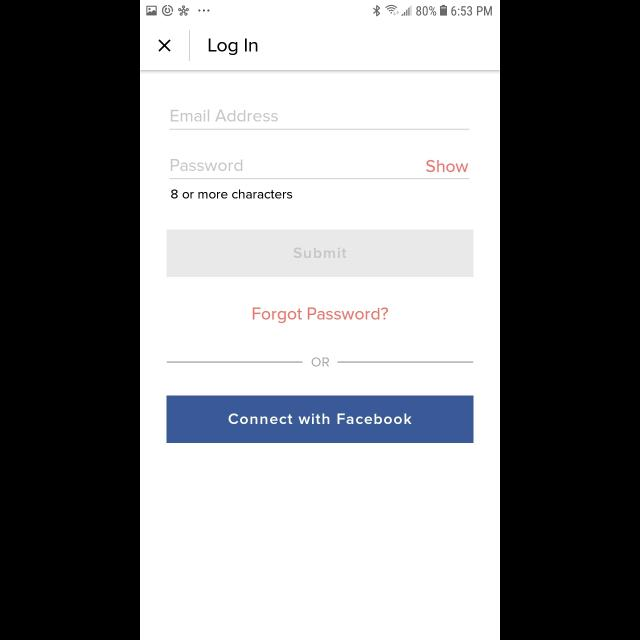icon: (159, 40, 171, 52)
input: (170, 110, 470, 130), (170, 160, 470, 180)
text: (252, 307, 388, 323), (170, 110, 278, 122), (172, 189, 292, 199), (208, 38, 258, 56), (171, 160, 243, 172), (426, 160, 468, 172), (310, 357, 330, 368)
textbutton: (166, 230, 474, 278), (166, 396, 474, 444)
uppertaskbar: (140, 1, 500, 17)
